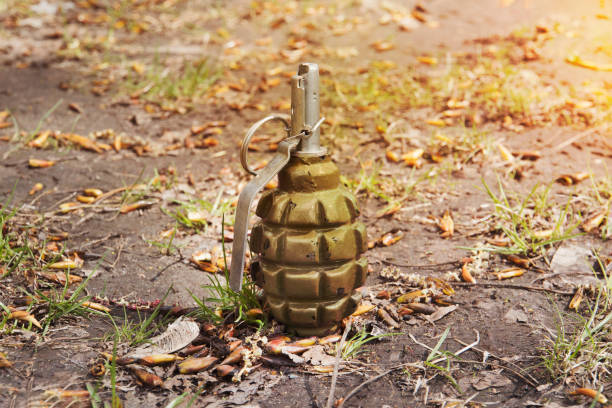e1: (233, 62, 369, 333)
